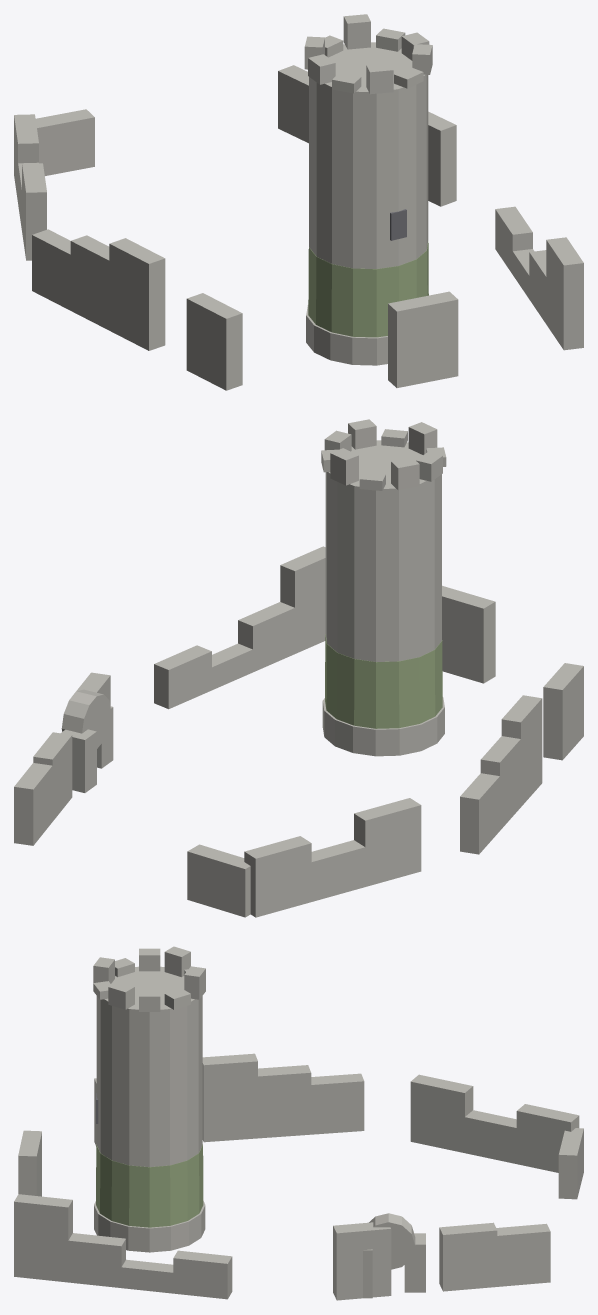
The model's file is sausenburg.glb.
The picture shows the model from 3 angles, top to bottom: view 1: azimuth 30°, elevation 25°; view 2: azimuth 150°, elevation 25°; view 3: azimuth 270°, elevation 25°; orthographic projection. The views are drawn at different scales.
Parts seen in each view (by area): view 1: building; view 2: building; view 3: building.
Part boxes in pixels (left/top/right/bottom): building: left=14, top=14, right=583, bottom=390; building: left=14, top=419, right=583, bottom=917; building: left=14, top=946, right=583, bottom=1300.
Bounding box in the file's own units: 31.59 × 21.9 × 42.92.
